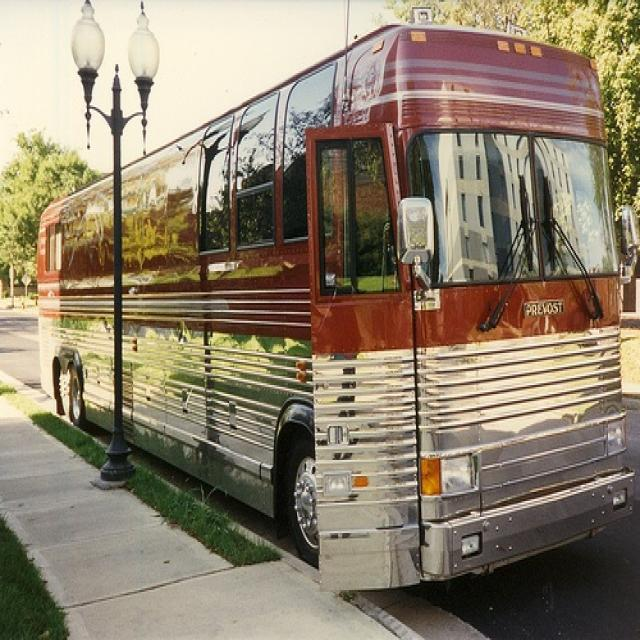bus: (36, 23, 635, 590)
